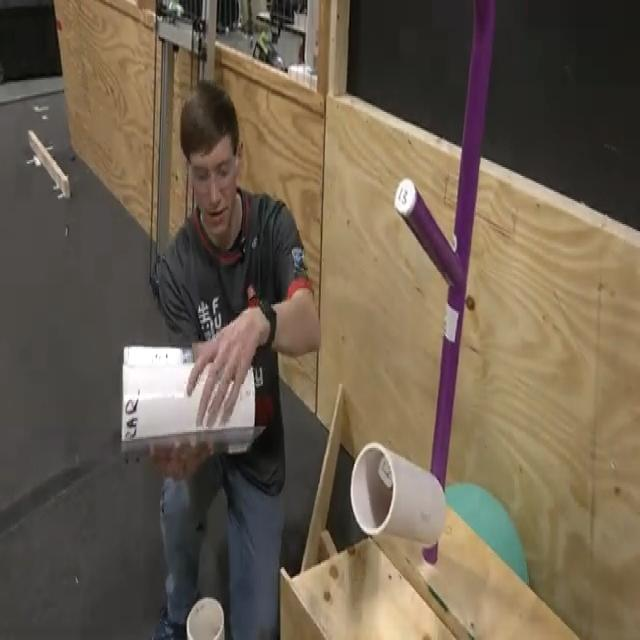Coral: (119, 343, 255, 463), (349, 439, 446, 548)
